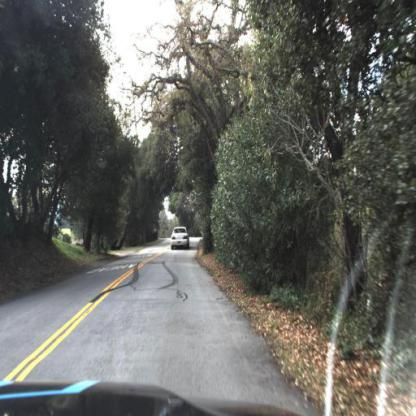car: (168, 222, 193, 255)
